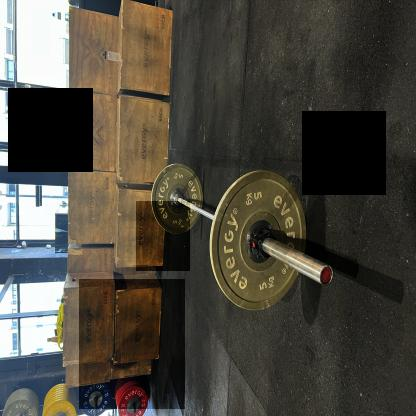barbell: (80, 280, 186, 410), (137, 202, 191, 272)
